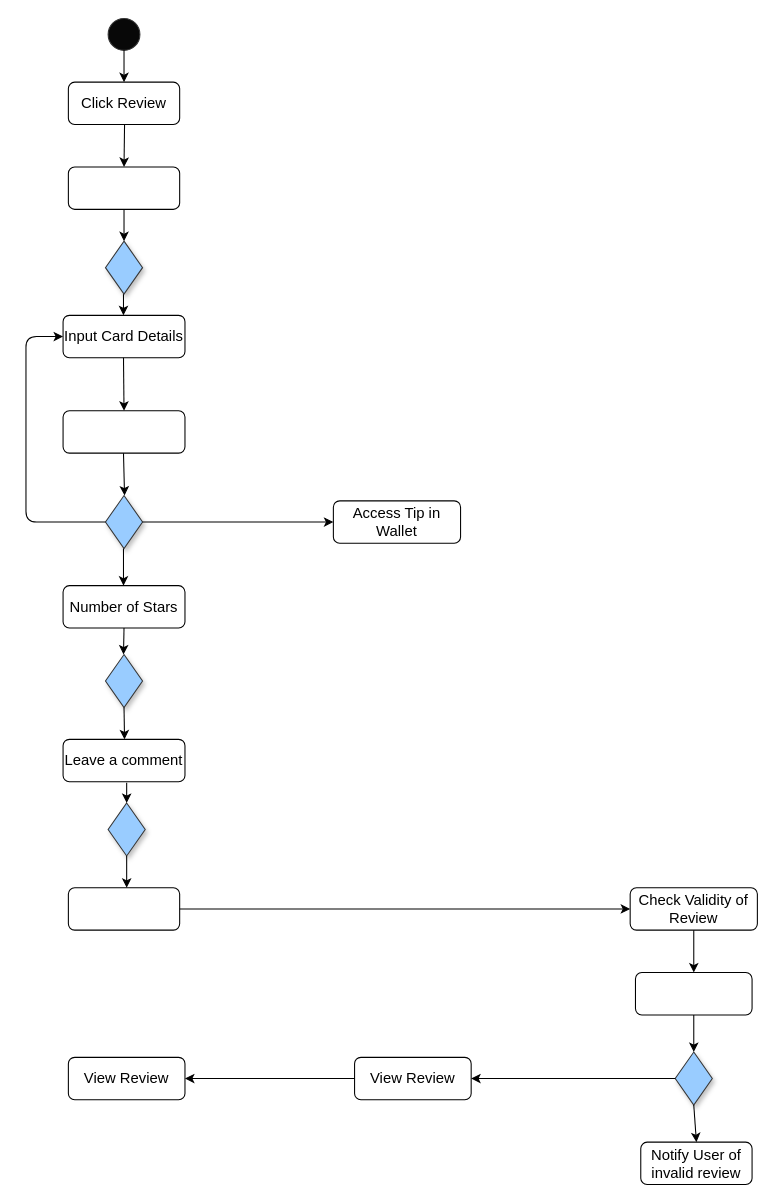
This 776x1203 diagram has some shape labels left out. Here are the shapes that lost their labels. From the top down, the centre of each, then its label:
[123,187]: Leave Tip
[123,431]: Submit Details
[123,908]: Submit Review
[693,993]: Confirm Review
